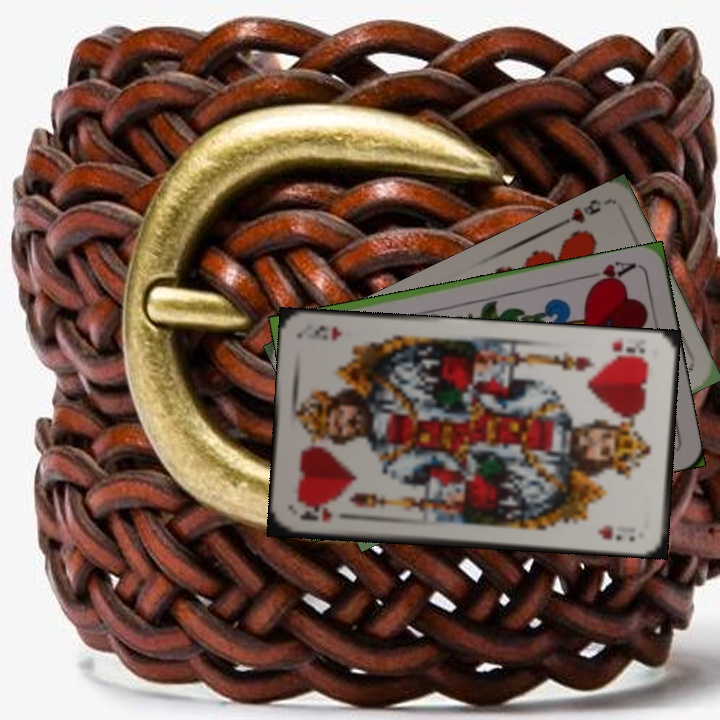H9: (553, 195, 604, 230)
HA: (581, 257, 639, 290)
HK: (606, 336, 652, 363), (295, 502, 334, 524)
